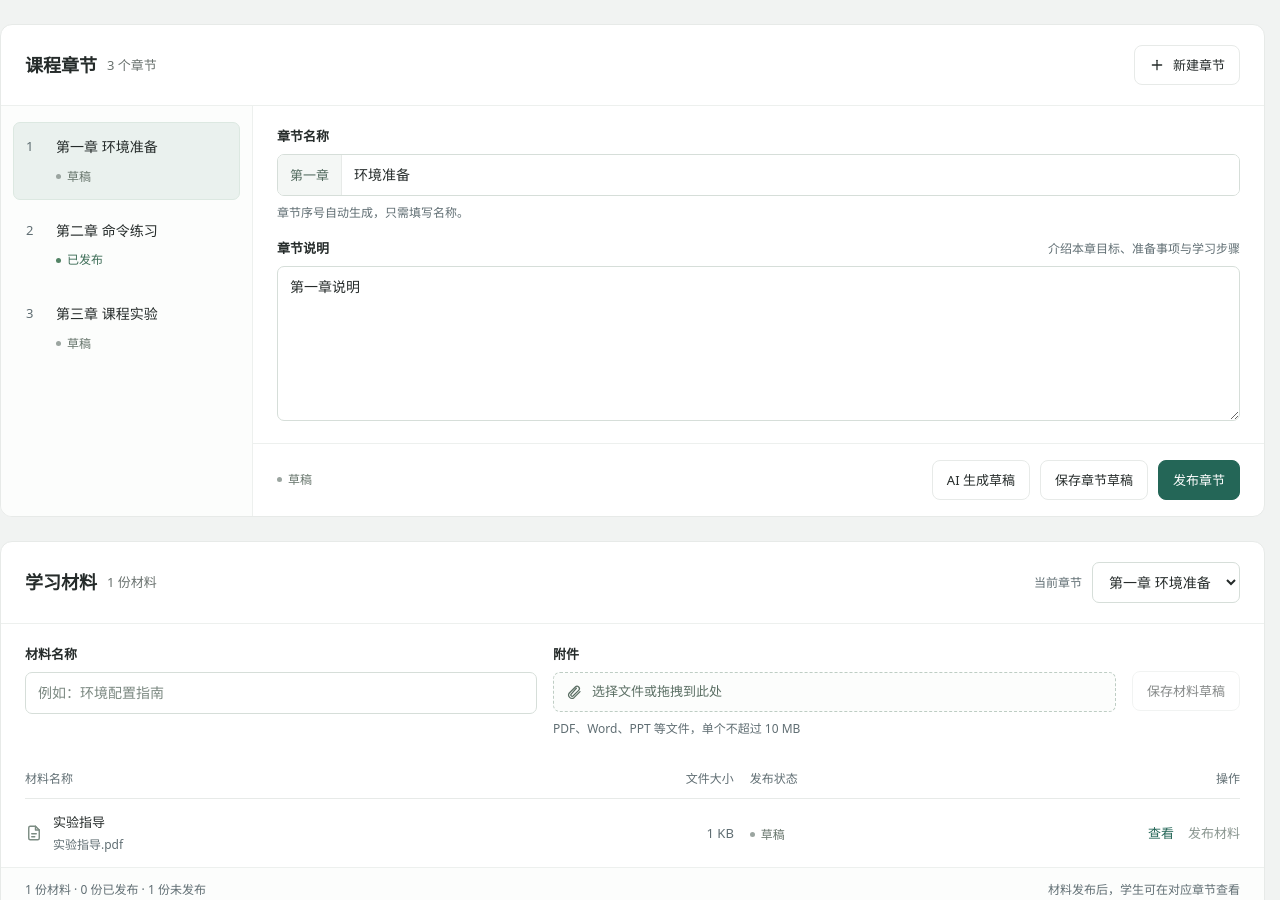
Test: publishes chapter content separately and material publishing uses its version
Later steps or results of the test are not shown.
Expected: the button "1 第一章 环境准备 草稿" is shown, [13,122,240,200]
Expected: the field labelled "章节名称" holds "环境准备", [342,155,1239,195]
Replace the text in the text box labelled "章节说明 介绍本章目标、准备事项与学习步骤" with "修改后的说明" at (758, 343), box [277,266,1240,420]
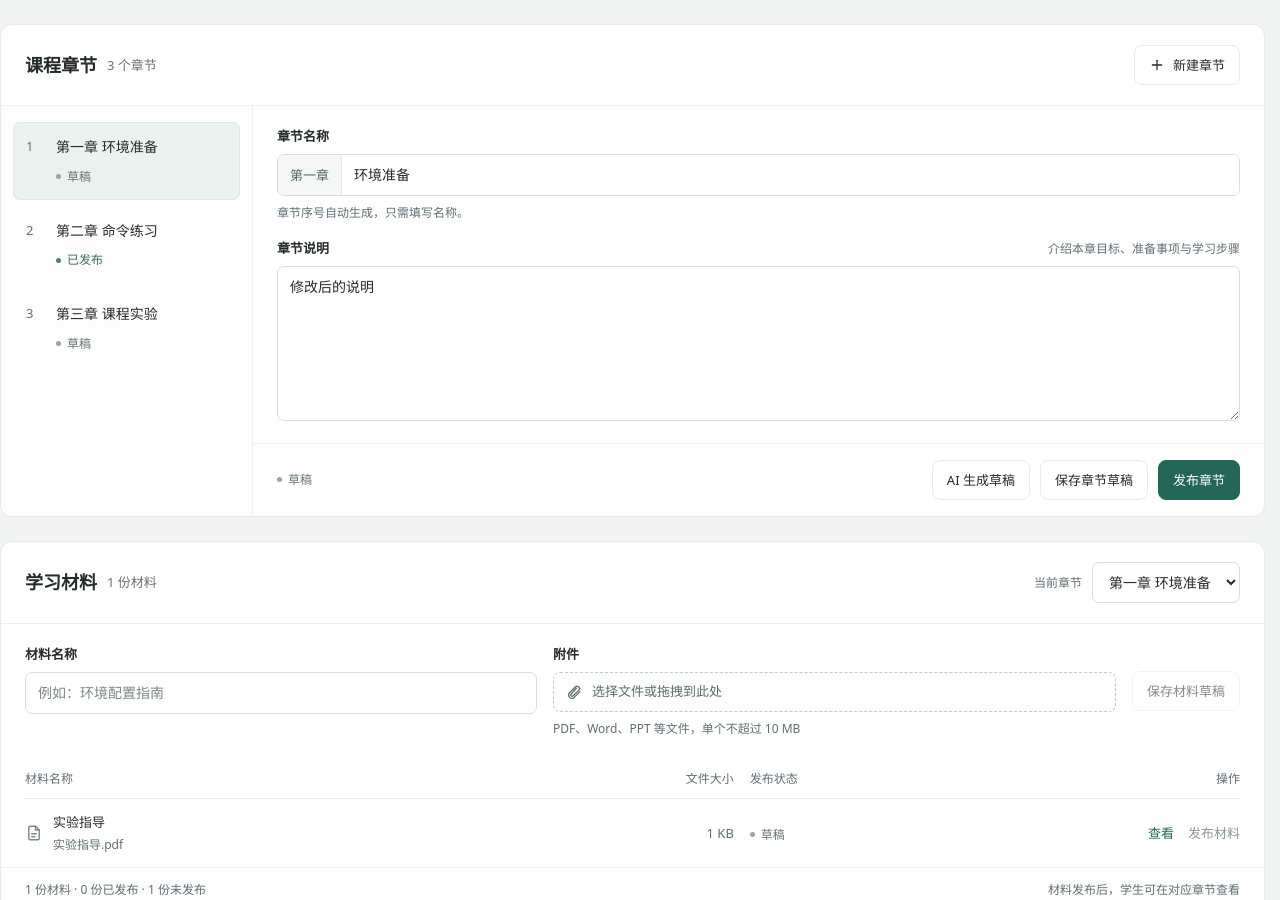
Click the button "发布章节" at (1199, 480), box [1158,460,1240,500]
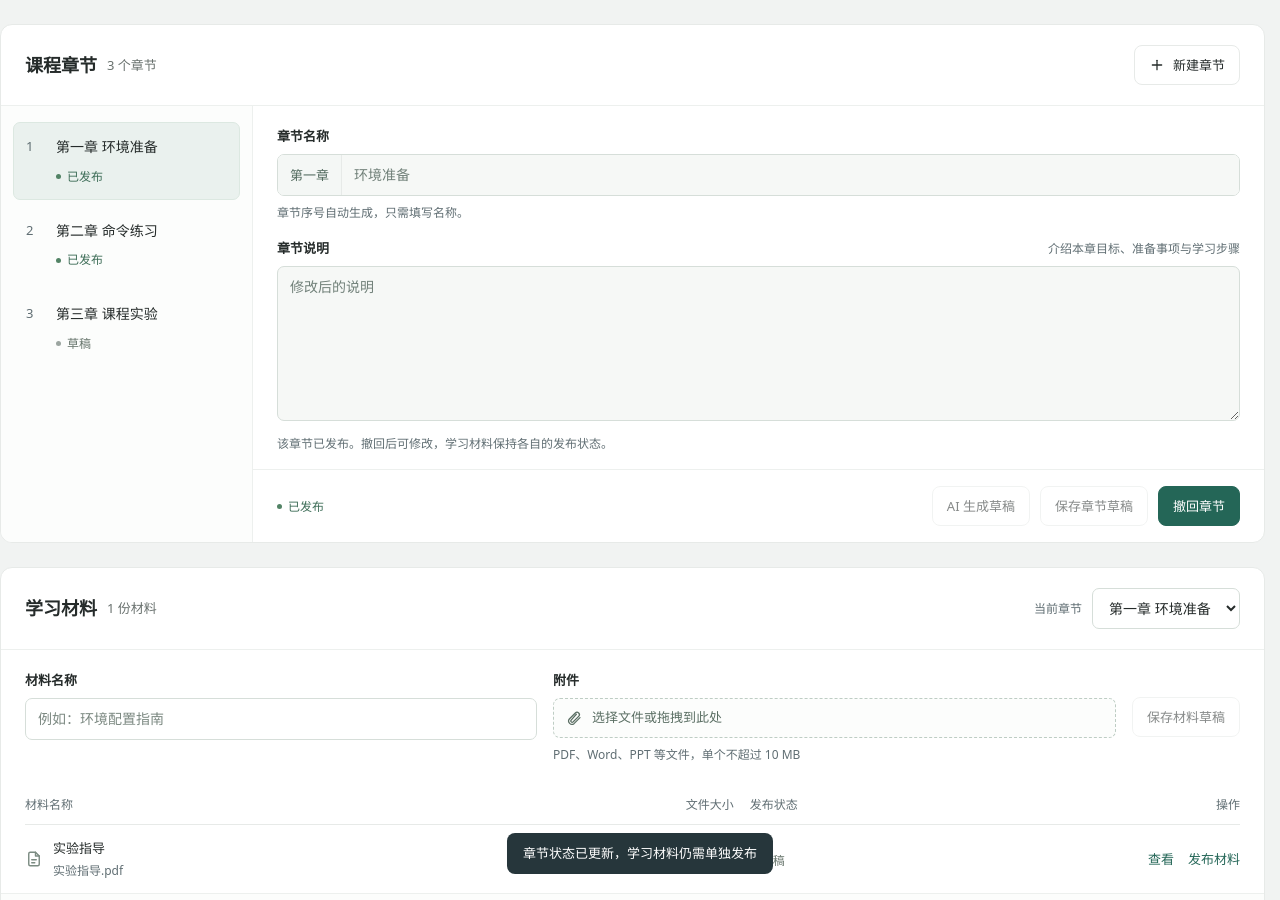
Now the button with aria-label "发布材料 实验指导" is enabled, box [1188,845,1240,874]
